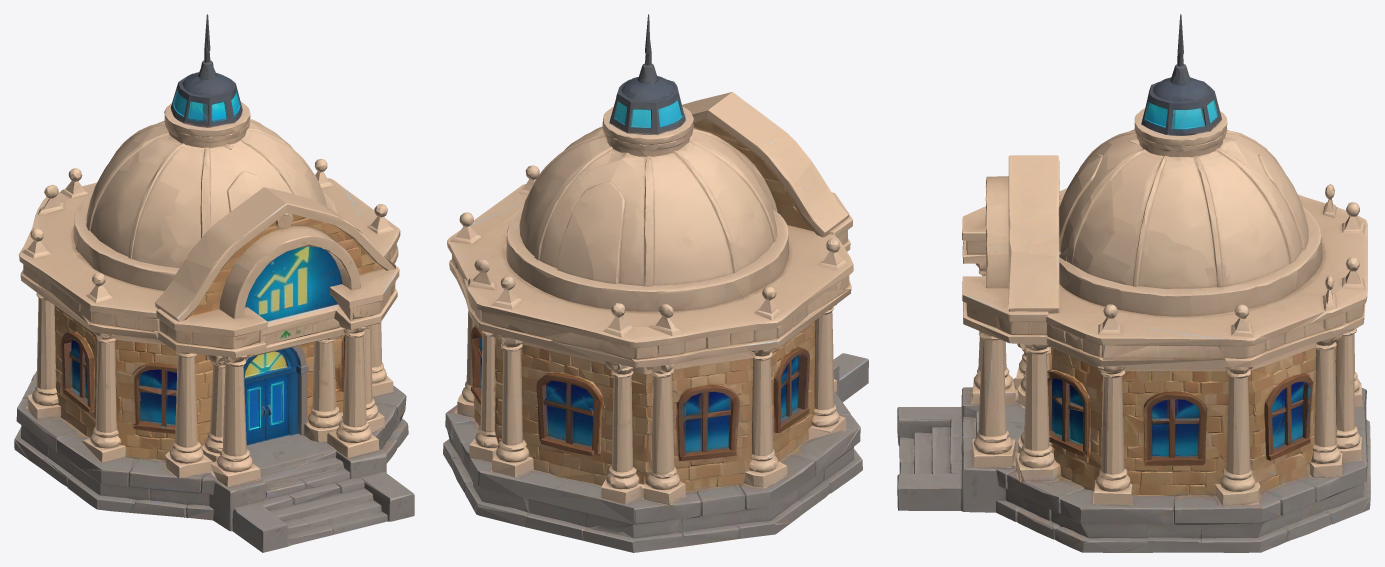
File: domed_hall.glb
The picture shows the model from 3 angles, left to right: view 1: azimuth 30°, elevation 25°; view 2: azimuth 150°, elevation 25°; view 3: azimuth 270°, elevation 25°; orthographic projection. The views are drawn at different scales.
Bounding box in the file's own units: 8.51 × 11 × 10.33.
Materials: 1 (1 with a texture image).
